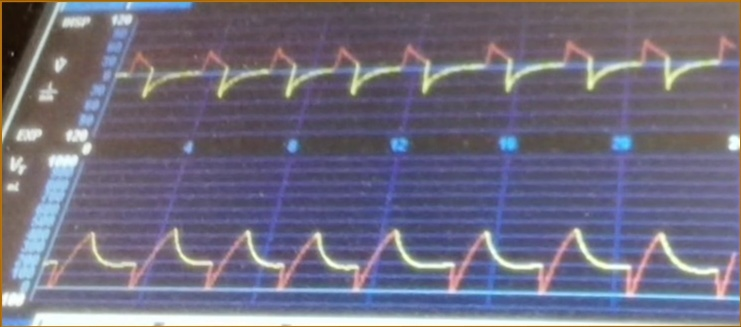Flow: (128, 24, 741, 125)
Leakage Volume: (67, 190, 741, 312)
